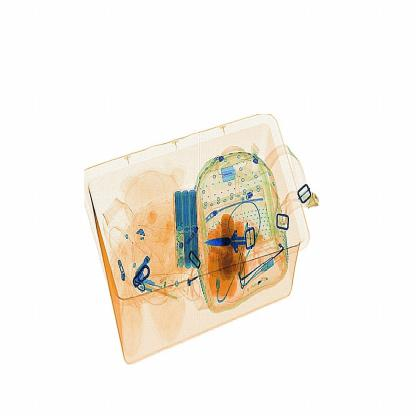gun: (207, 218, 269, 256)
